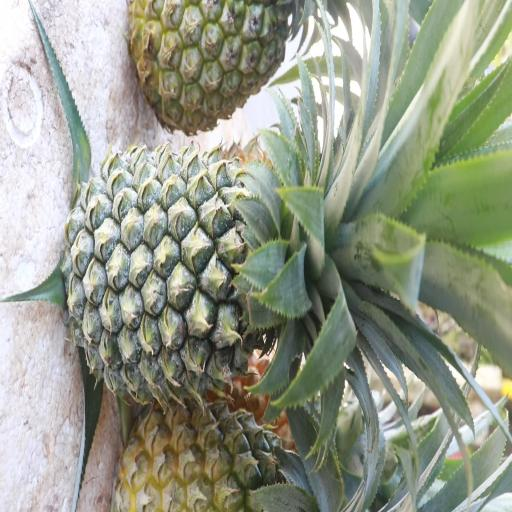------------------------------: (130, 0, 304, 133), (123, 398, 315, 512)
